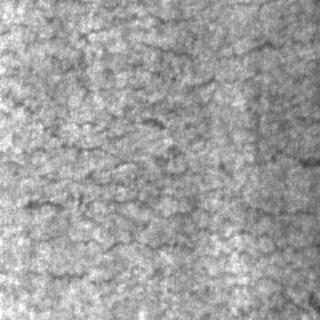crazing: (2, 2, 306, 308)
